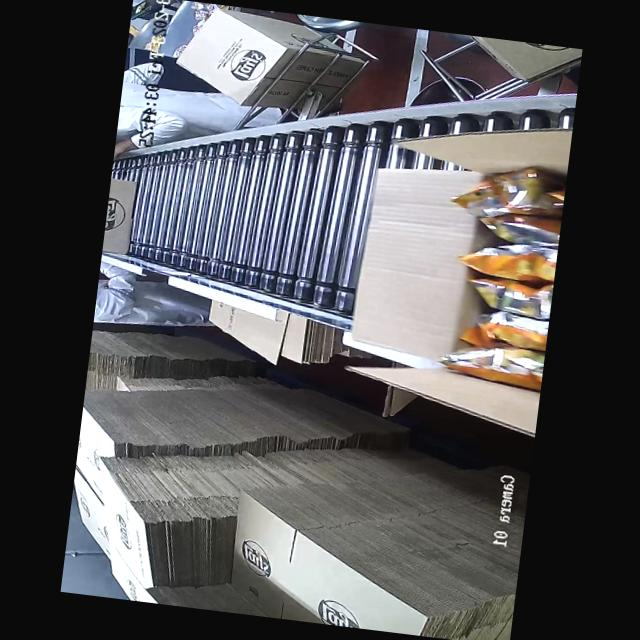cheese: (452, 170, 564, 382)
